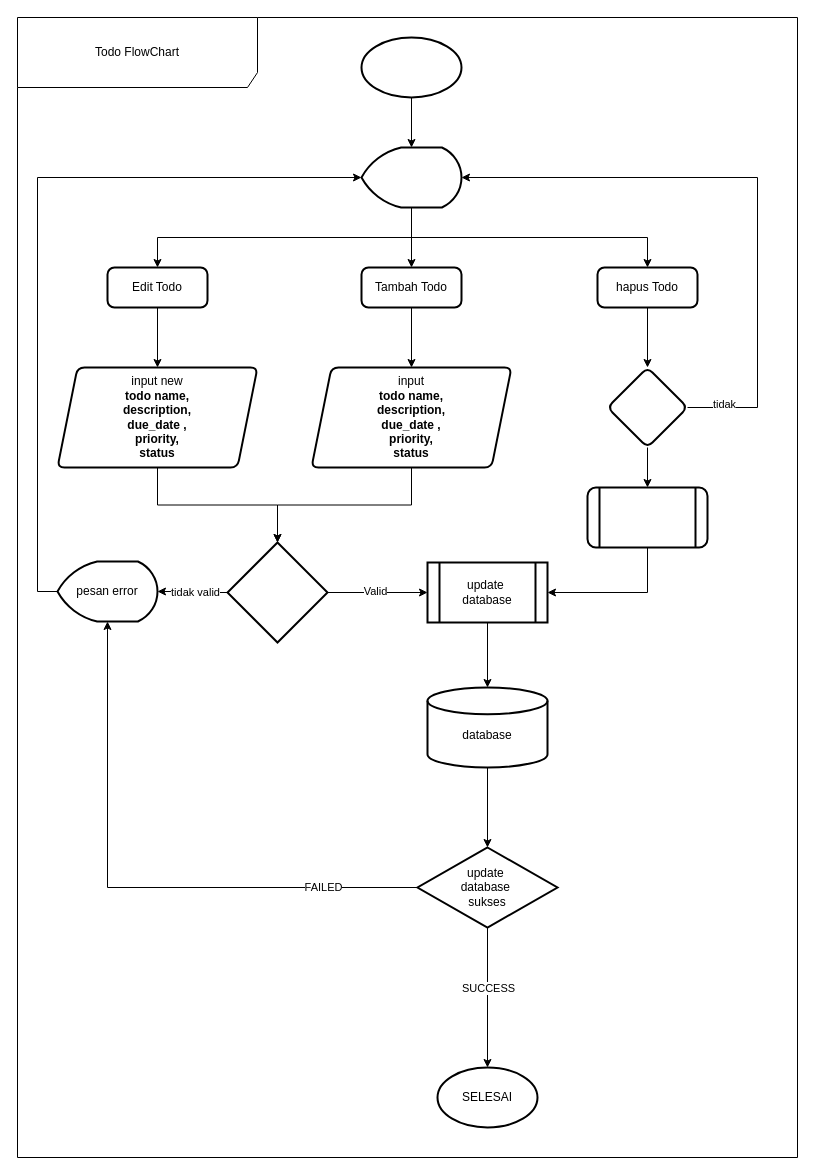
The diagram is 815 pixels wide and 1175 high, and some of its shapes have lost their labels. Here are the shapes that lost their labels. From the top down, the centre of each, then its label:
(411,67): MULAI
(411,177): Tampilkan List TODO
(647,407): confirmasi hapus
(647,517): delete todo
(277,592): validasi input
